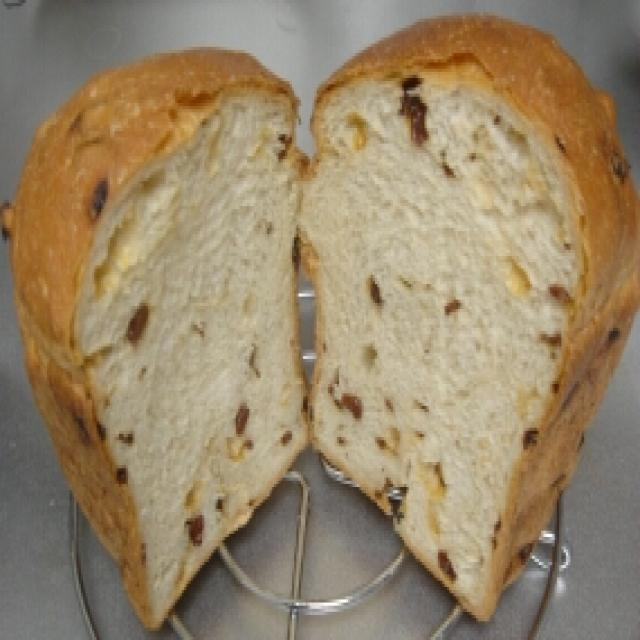面包点心: (0, 41, 640, 593)
